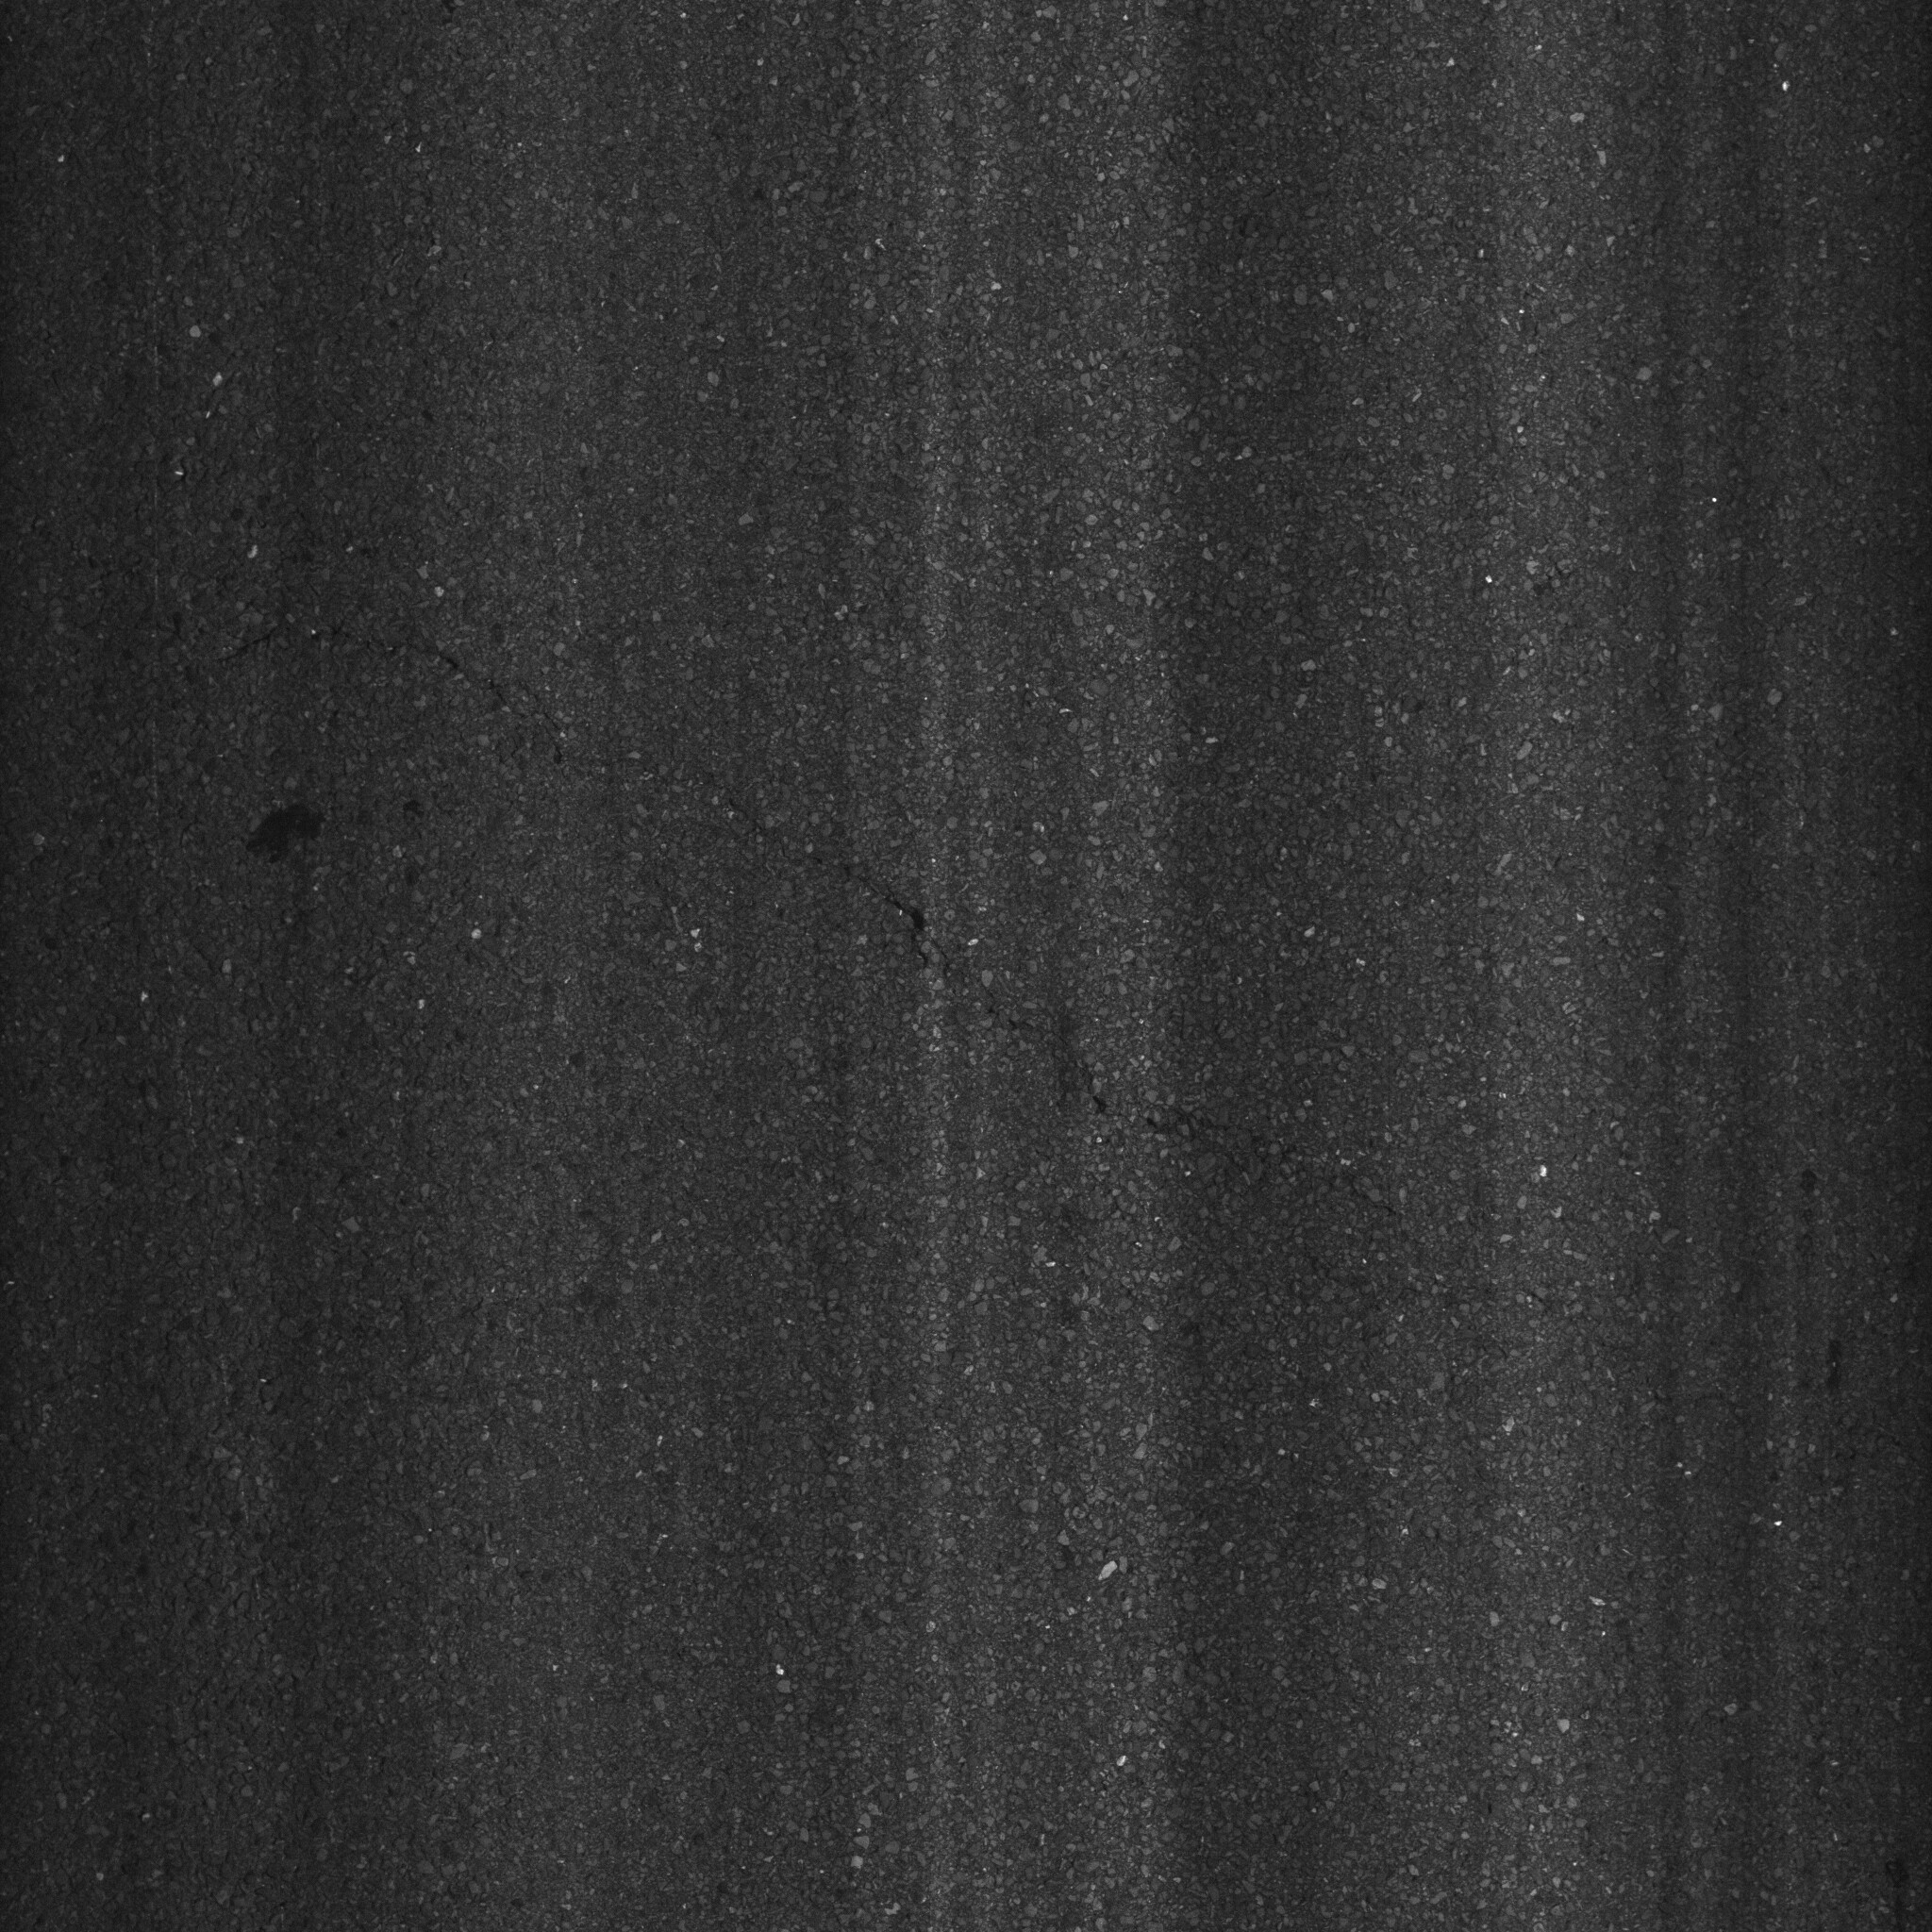transverse: (274, 531, 1539, 1341)
